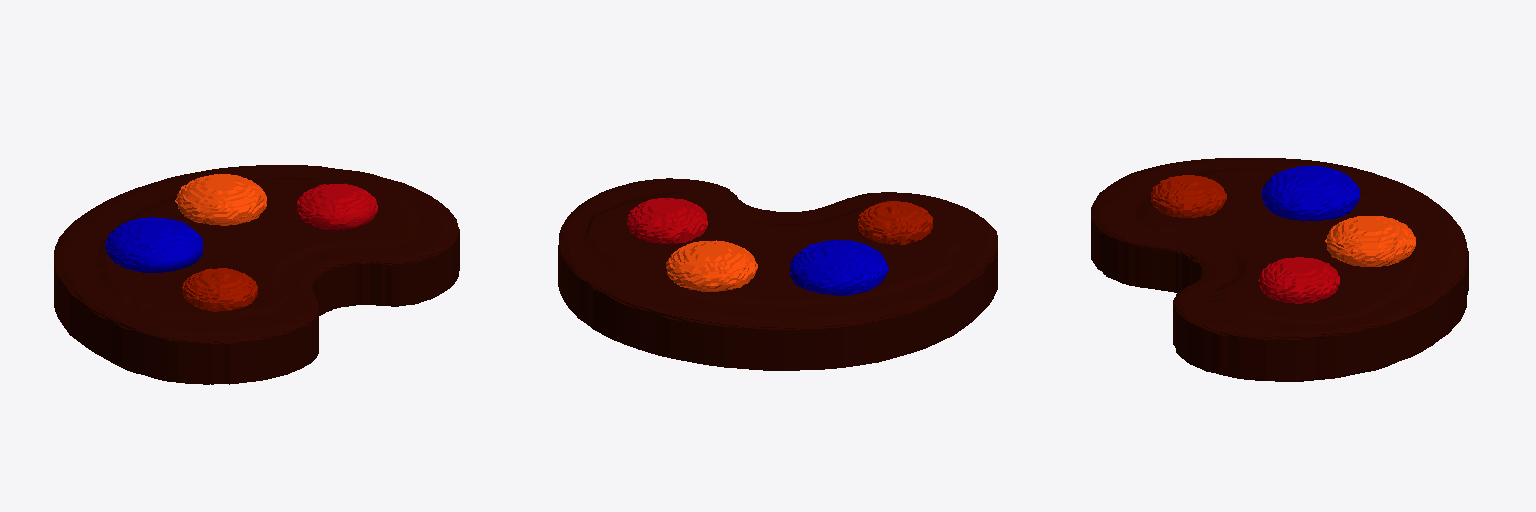
File: color-pallete.obj
The picture shows the model from 3 angles: view 1: azimuth 30°, elevation 25°; view 2: azimuth 150°, elevation 25°; view 3: azimuth 270°, elevation 25°; orthographic projection.
Size of the model in its own units: 193 by 38 by 170.